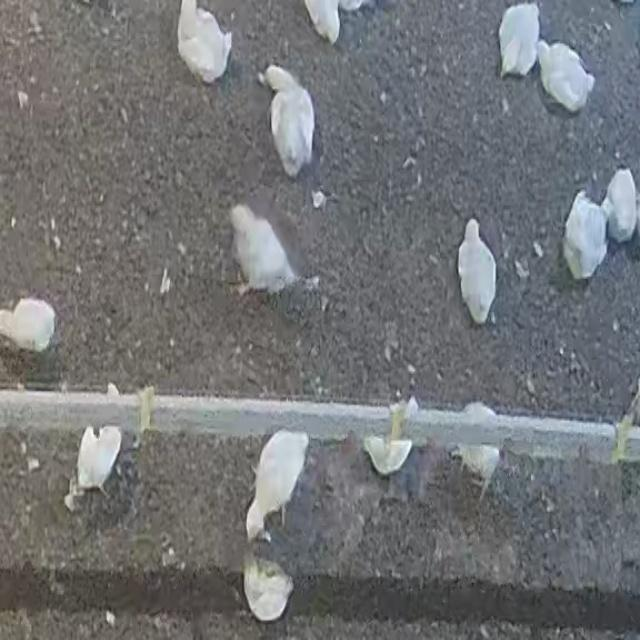chicken: (228, 201, 305, 301), (247, 429, 310, 541), (262, 61, 315, 177), (454, 403, 505, 499), (176, 1, 231, 83), (456, 218, 498, 325), (537, 40, 596, 112), (562, 191, 608, 279), (75, 423, 122, 500), (498, 2, 541, 78), (0, 297, 57, 354), (603, 169, 639, 244)
